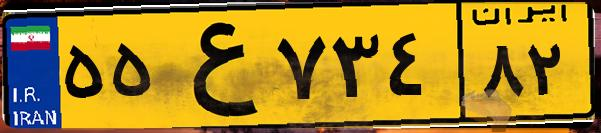2: (525, 38, 570, 115)
3: (330, 28, 385, 110)
4: (385, 28, 445, 110)
5: (57, 26, 110, 100), (110, 28, 158, 98)
7: (270, 28, 330, 110)
8: (475, 38, 525, 113)
ع: (158, 12, 270, 120)
